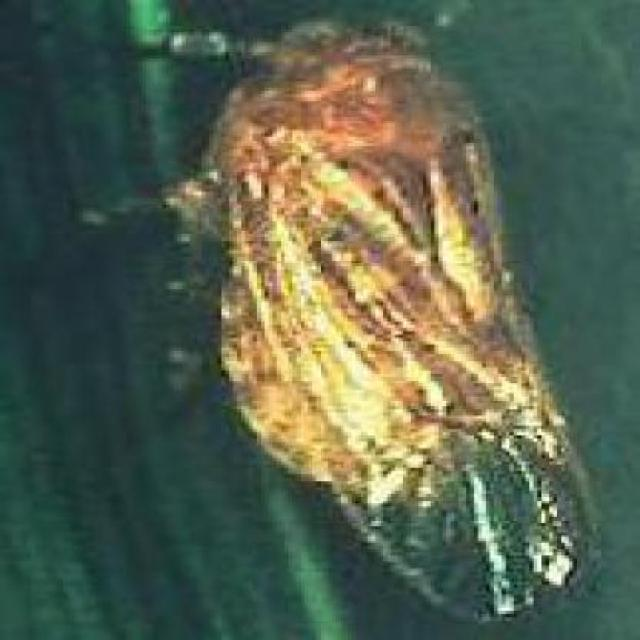brown-planthopper: (196, 18, 590, 611)
